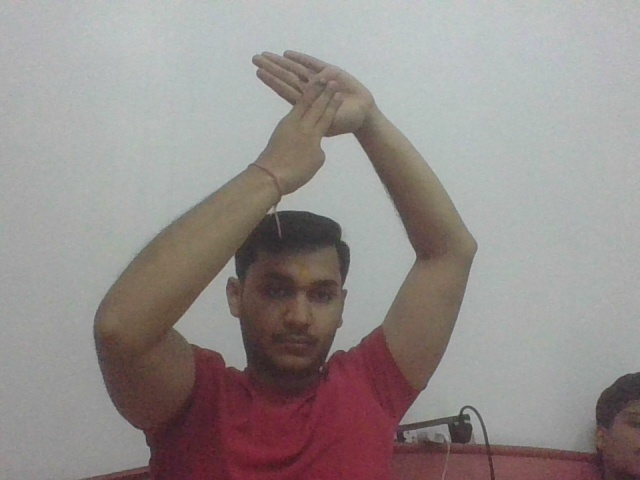M: (250, 43, 369, 165)
